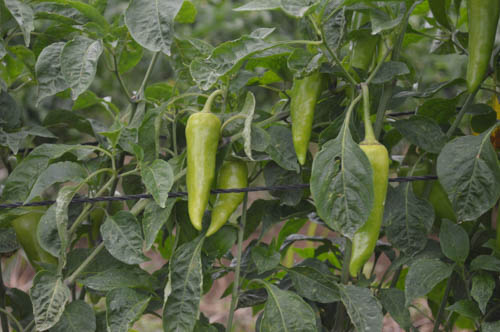ChiliPepper: (349, 144, 389, 281), (183, 114, 217, 231), (347, 9, 383, 102), (289, 67, 320, 170), (207, 162, 247, 240), (463, 3, 493, 101)
